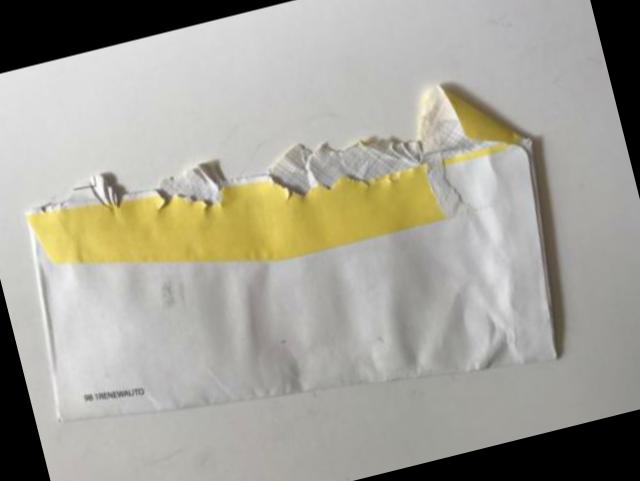cardboard paper: (25, 84, 553, 419)
